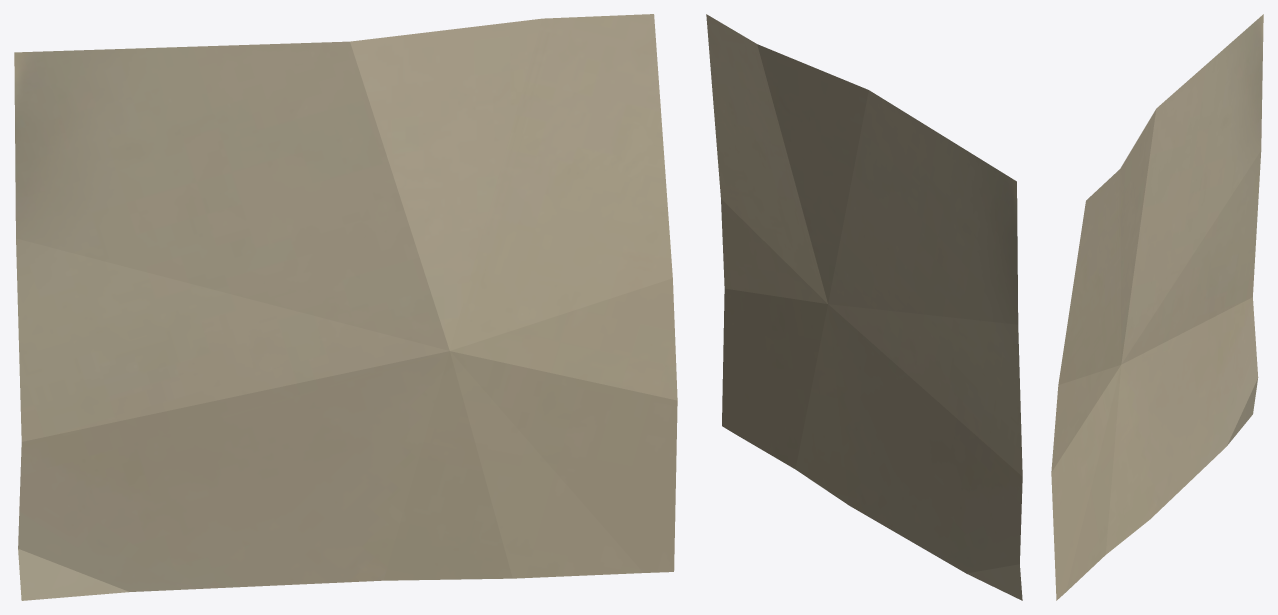
3 views of the same model, side by side, from view 1: azimuth 30°, elevation 25°; view 2: azimuth 150°, elevation 25°; view 3: azimuth 270°, elevation 25° (orthographic). The views are drawn at different scales.
Size of the model in its own units: 0.8373 by 0.8374 by 0.4025.
3 materials, 3 textured.
